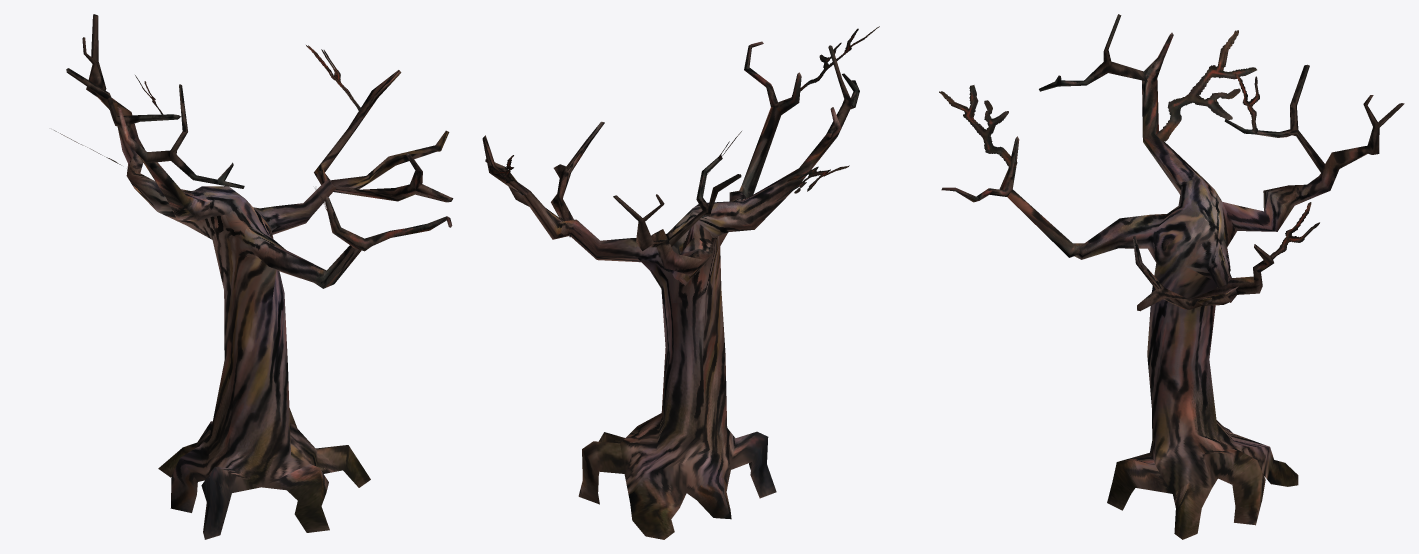
The model's file is FOL_DeadTreeB.FBX.
The picture shows the model from 3 angles, left to right: view 1: azimuth 30°, elevation 25°; view 2: azimuth 150°, elevation 25°; view 3: azimuth 270°, elevation 25°; orthographic projection. The views are drawn at different scales.
Parts seen in each view (by area): view 1: FOL_DeadTreeB; view 2: FOL_DeadTreeB; view 3: FOL_DeadTreeB.
Part boxes in pixels (x1=…): FOL_DeadTreeB: x1=54, y1=14, x2=453, y2=539; FOL_DeadTreeB: x1=482, y1=26, x2=879, y2=539; FOL_DeadTreeB: x1=939, y1=14, x2=1404, y2=539.
Size of the model in its own units: 581 by 648 by 666.
